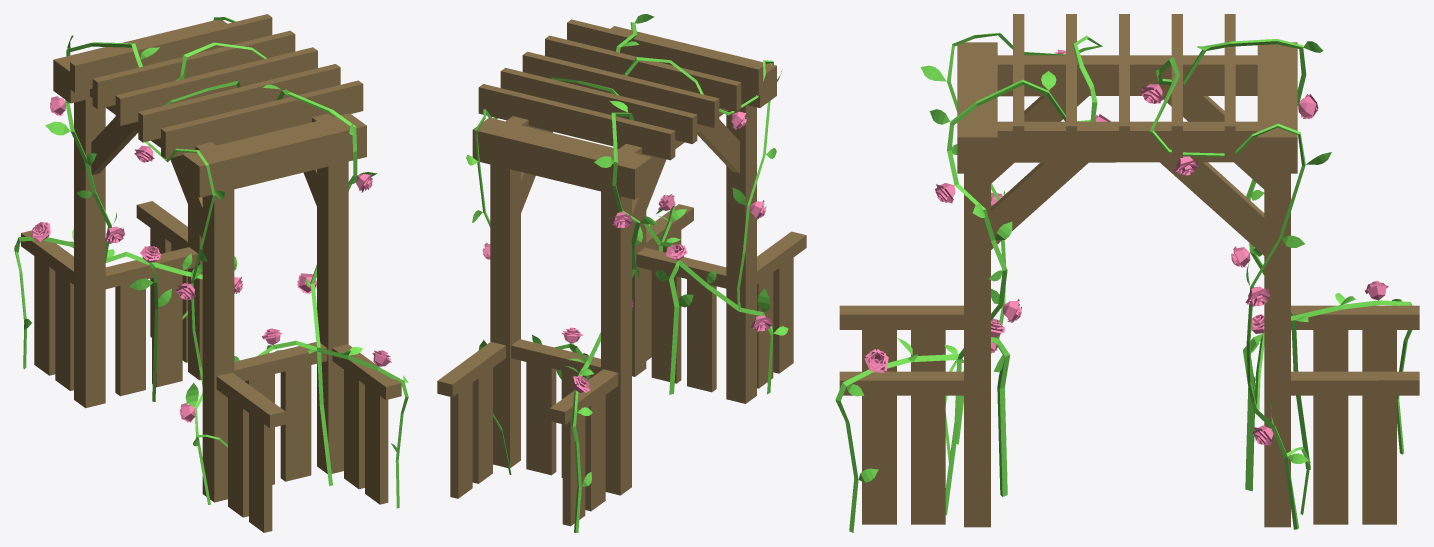
The model's file is Arco.fbx.
3 renders of one model, left to right at view 1: azimuth 30°, elevation 25°; view 2: azimuth 150°, elevation 25°; view 3: azimuth 270°, elevation 25°, orthographic. The views are drawn at different scales.
Visible parts, largest first — view 1: Plane.029; view 2: Plane.029; view 3: Plane.029.
Part boxes in pixels (box(x1,y1,x2,y2)): Plane.029: box(14, 14, 408, 532); Plane.029: box(437, 14, 806, 532); Plane.029: box(835, 14, 1419, 532).
Size of the model in its own units: 155 by 273 by 332.
